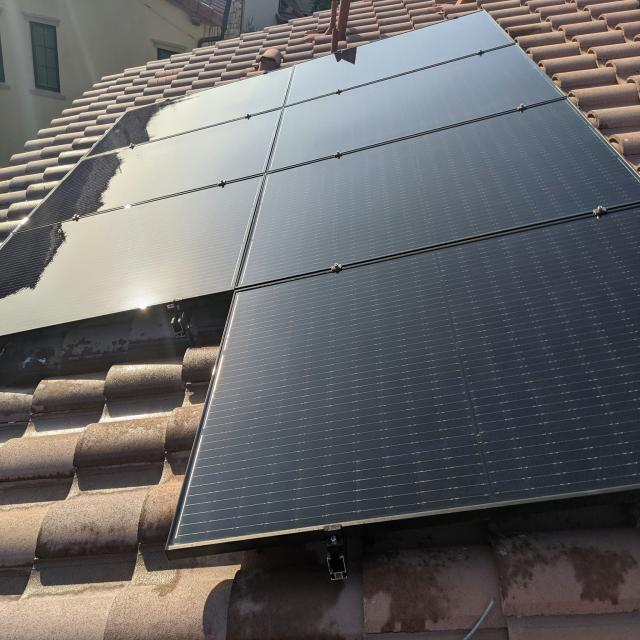clean-solar-panel: (0, 13, 640, 542)
